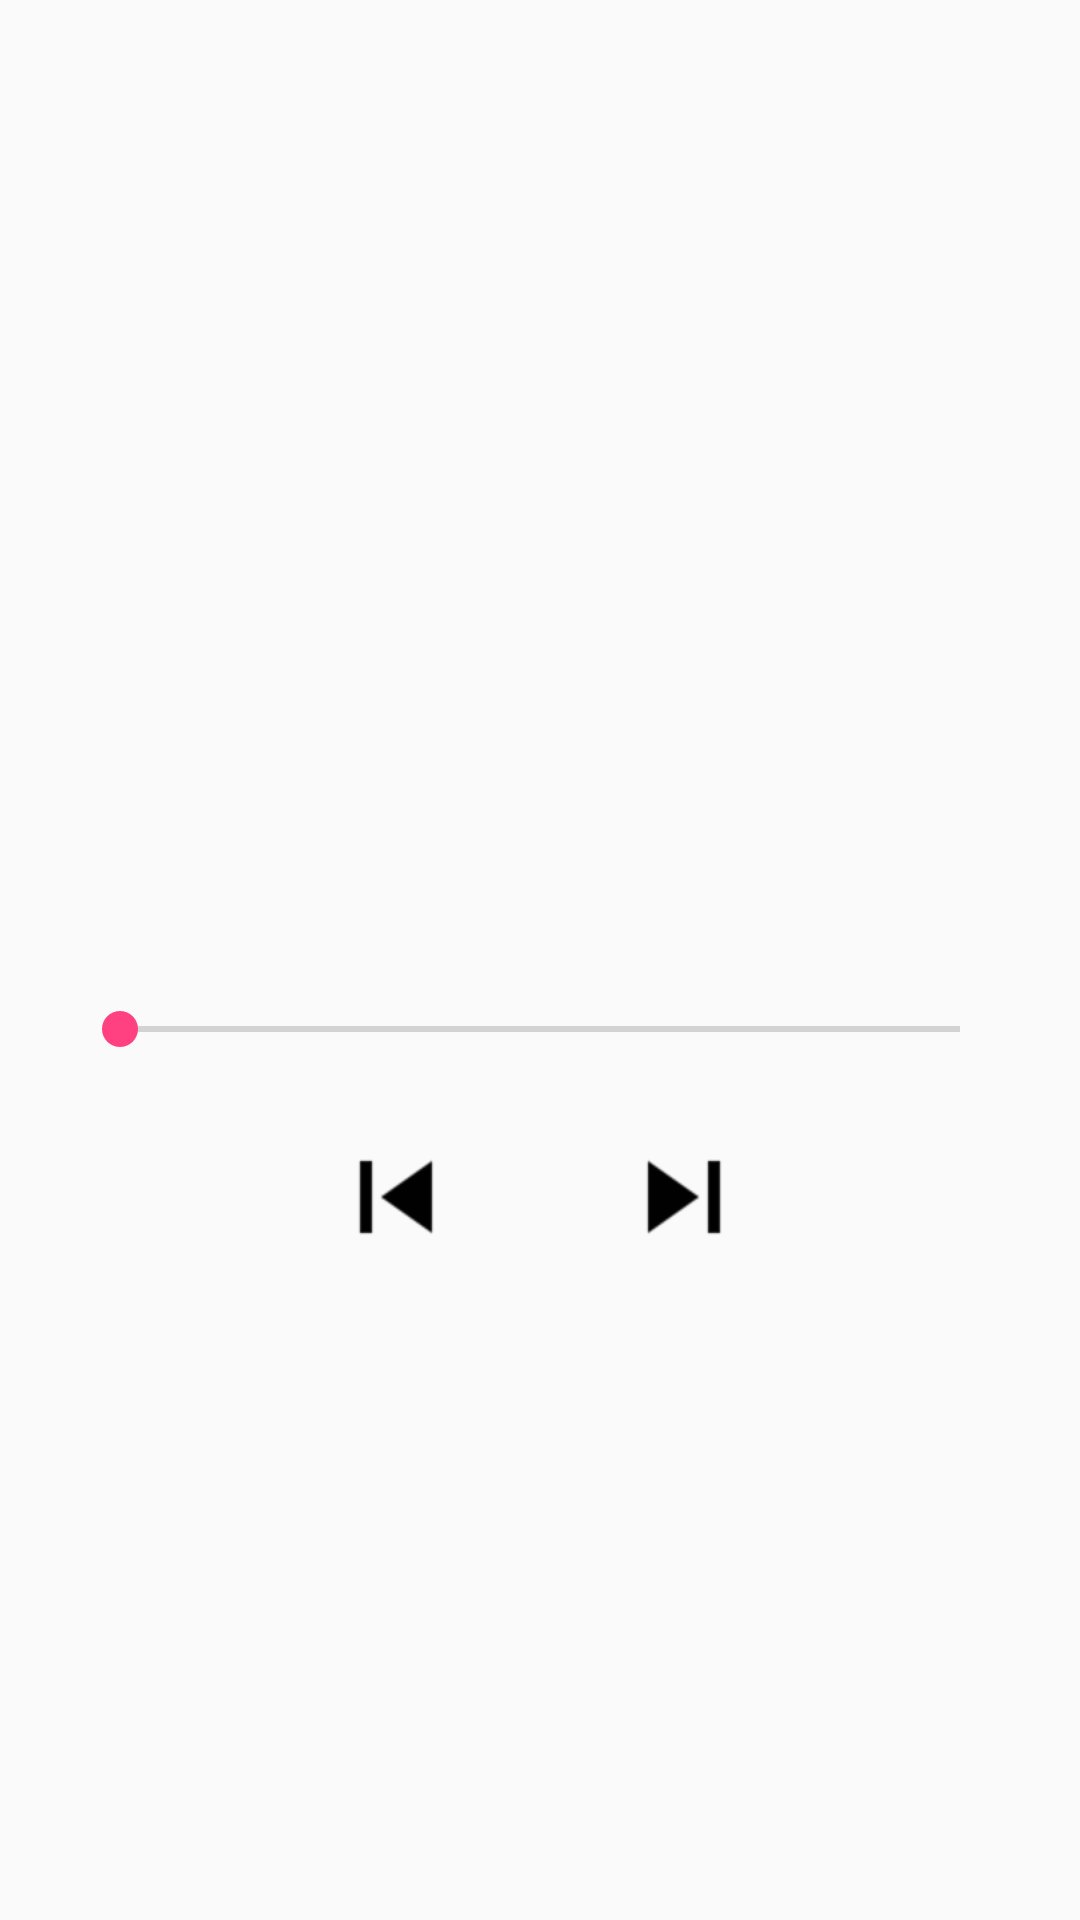

Icons on this 1080x1920 Android screen, each with the point to tap as point (x, y):
skip next: point (684, 1197)
skip previous: point (396, 1197)
